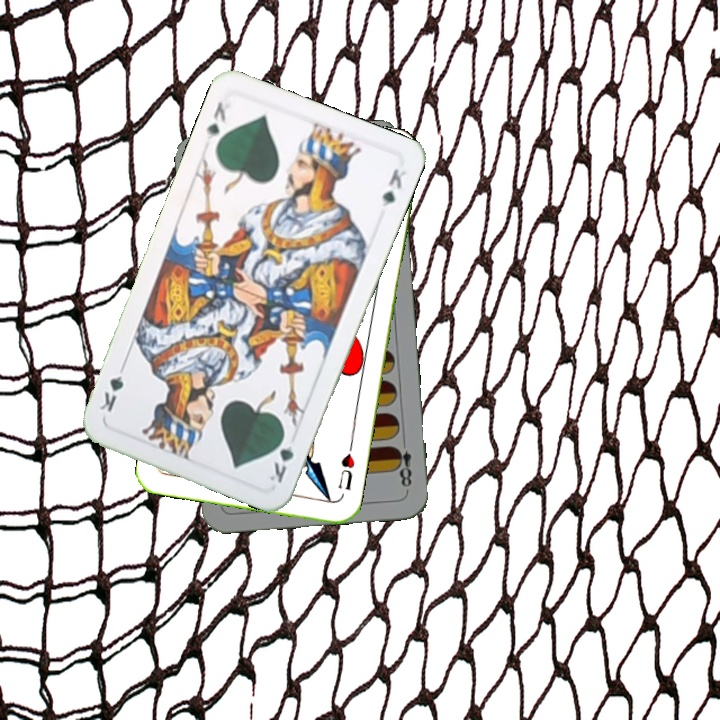E8: (390, 434, 414, 493)
GK: (263, 428, 298, 485), (202, 97, 229, 144)
HU: (334, 440, 358, 493)
